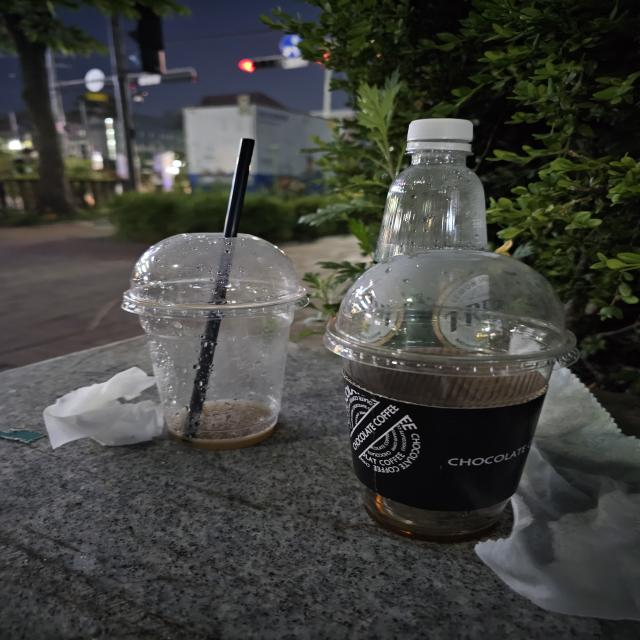cup: (324, 252, 586, 546), (118, 226, 312, 455)
